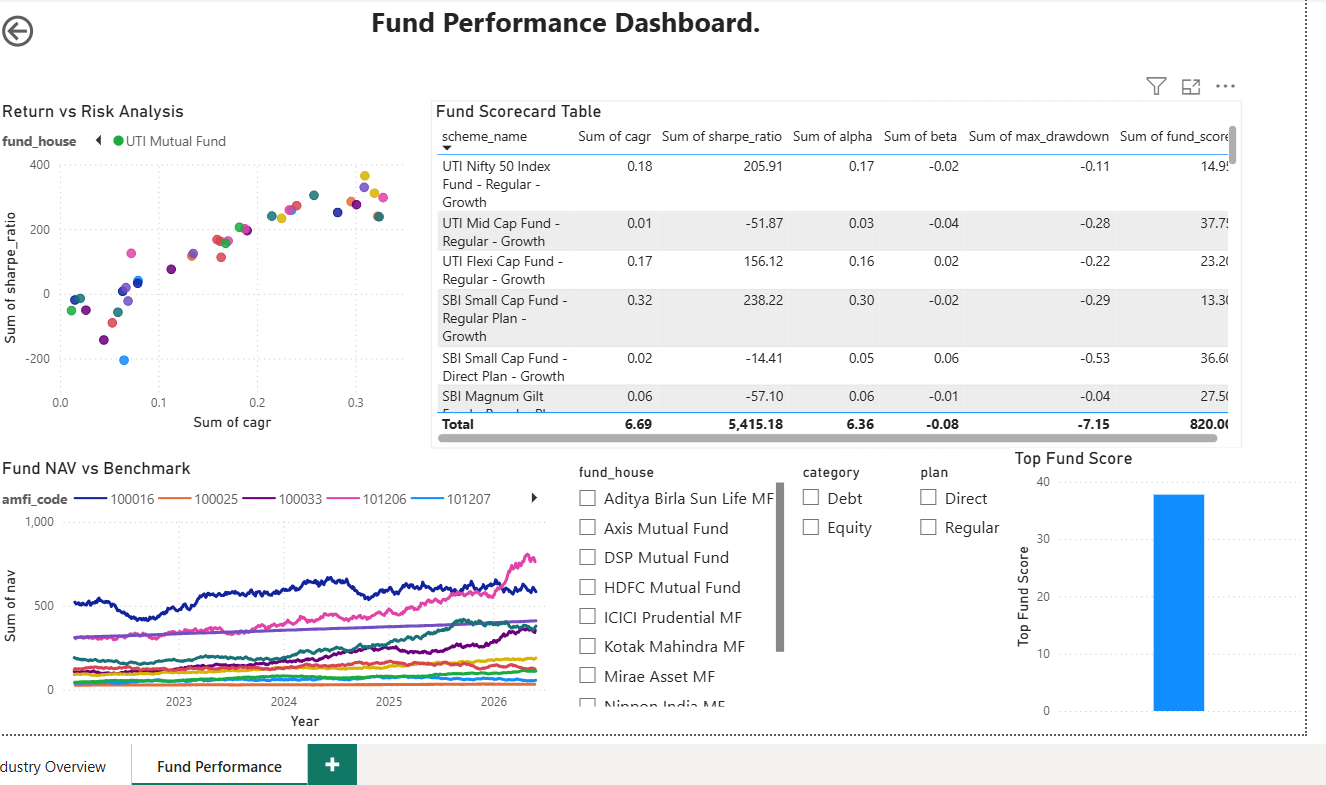

This screenshot's page, from the dashboard's own definition file:
{"tool":"powerbi","page":{"name":"Fund Performance","canvas":[1280,720],"ordinal":1},"visuals":[{"type":"scatterChart","title":"Return vs Risk Analysis","fields":{"X":["Sum(fund_scorecard.cagr)"],"Y":["Sum(fund_scorecard.sharpe_ratio)"],"Series":["clean_fund_master.fund_house"],"Category":["clean_fund_master.scheme_name"]},"box":[0,100.3,412.1,327.7],"z":0},{"type":"tableEx","title":"Fund Scorecard Table","fields":{"Values":["clean_fund_master.scheme_name","Sum(fund_scorecard.cagr)","Sum(fund_scorecard.sharpe_ratio)","Sum(fund_scorecard.alpha)","Sum(fund_scorecard.beta)","Sum(fund_scorecard.max_drawdown)","Sum(fund_scorecard.fund_score)"]},"box":[424.3,100.3,793.6,339.9],"z":1000},{"type":"actionButton","box":[0,12.2,100.3,40.4],"z":2000},{"type":"lineChart","title":"Fund NAV vs Benchmark","fields":{"Y":["Sum(clean_nav.nav)"],"Category":["clean_nav.date.Variation.Date Hierarchy.Year","clean_nav.date.Variation.Date Hierarchy.Quarter","clean_nav.date.Variation.Date Hierarchy.Month","clean_nav.date.Variation.Date Hierarchy.Day"],"Series":["clean_nav.amfi_code"]},"box":[0,450,545.4,270.2],"z":3000},{"type":"slicer","fields":{"Values":["clean_fund_master.fund_house"]},"box":[556.4,450,218.9,248.2],"z":4000},{"type":"slicer","fields":{"Values":["clean_fund_master.category"]},"box":[775.3,450,127.2,251.9],"z":5000},{"type":"slicer","fields":{"Values":["clean_fund_master.plan"]},"box":[890.2,450,114.9,103.9],"z":6000},{"type":"clusteredColumnChart","fields":{"Y":["alpha_beta.Top Fund Score"]},"box":[990.5,440.2,289.8,271.5],"z":7000},{"type":"textbox","box":[100.3,0,904.9,62.4],"z":7002}]}

Visuals, with their boxes on the page's 1280x720 design canvas (x1, y1, x2, y2). These are canvas units, not pixel positions in the 1326x785 screenshot, which may show the page scaled, cropped or inside an application window:
"Return vs Risk Analysis" scatterChart: pyautogui.locateOnScreen(0, 100, 412, 428)
"Fund Scorecard Table" tableEx: pyautogui.locateOnScreen(424, 100, 1218, 440)
actionButton: pyautogui.locateOnScreen(0, 12, 100, 53)
"Fund NAV vs Benchmark" lineChart: pyautogui.locateOnScreen(0, 450, 545, 720)
slicer - clean_fund_master.fund_house: pyautogui.locateOnScreen(556, 450, 775, 698)
slicer - clean_fund_master.category: pyautogui.locateOnScreen(775, 450, 902, 702)
slicer - clean_fund_master.plan: pyautogui.locateOnScreen(890, 450, 1005, 554)
clusteredColumnChart - alpha_beta.Top Fund Score: pyautogui.locateOnScreen(990, 440, 1280, 712)
textbox: pyautogui.locateOnScreen(100, 0, 1005, 62)
